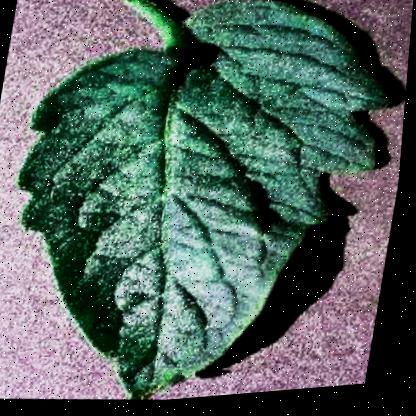Healthy: (0, 0, 415, 414)
